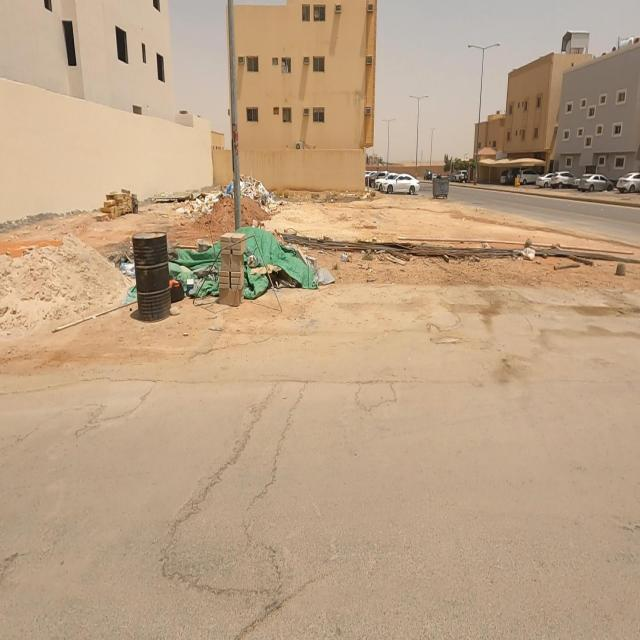debris: (174, 172, 398, 360), (118, 187, 259, 352), (216, 130, 300, 246), (157, 161, 266, 241), (91, 222, 162, 334), (489, 217, 562, 287)
